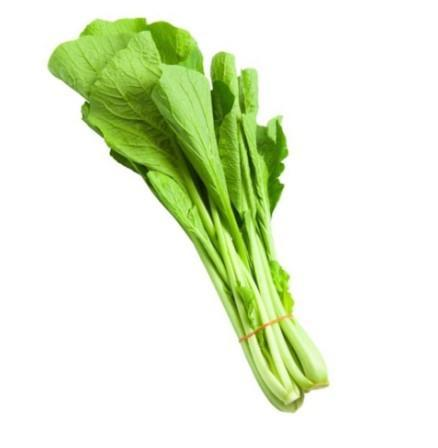Healthy-Pechay: (54, 21, 326, 198), (176, 193, 339, 396)
